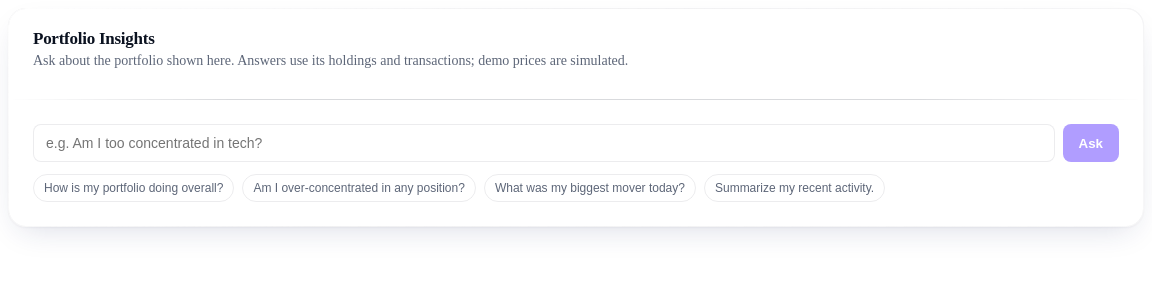
Scenario: InsightsPanel › shows a friendly error when the service fails
Click the button "How is my portfolio doing overall?" at (134, 188), box 33,174 -> 234,202
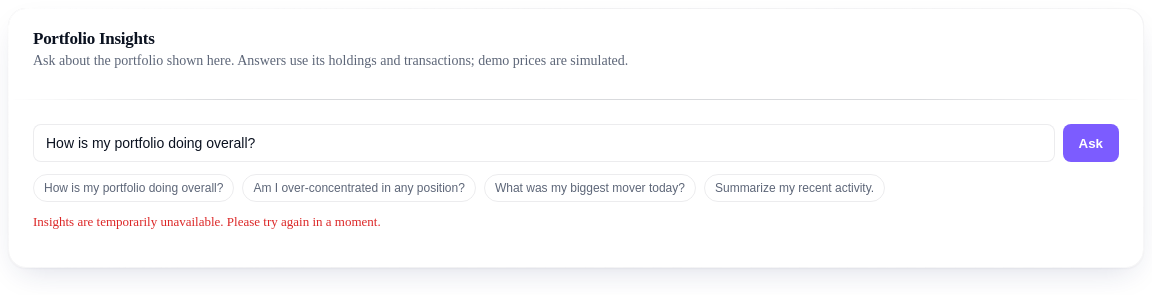
Expected: the message shows "temporarily unavailable", 33,214 -> 381,229
